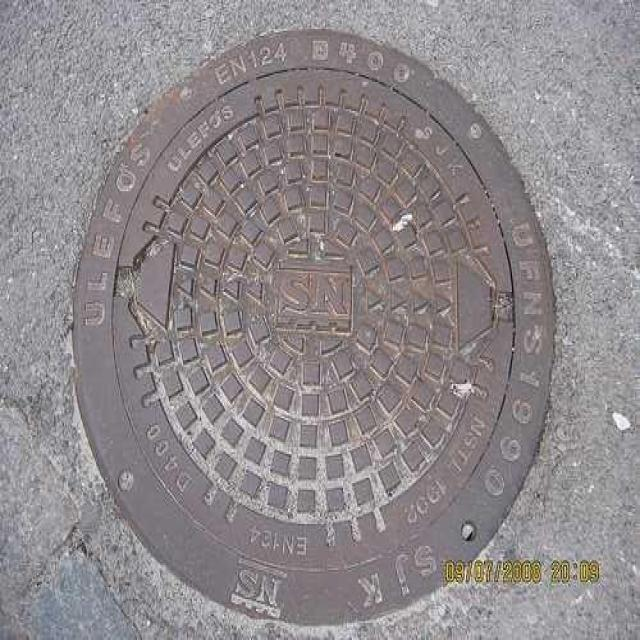manhole: (73, 30, 554, 623)
